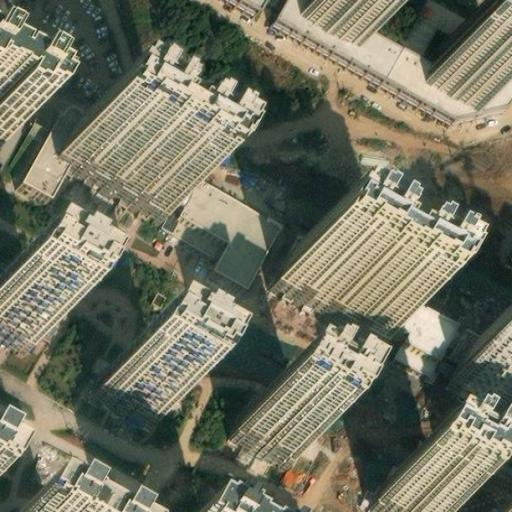building: (278, 0, 512, 113), (296, 230, 459, 370), (59, 116, 186, 209), (179, 172, 285, 283), (282, 241, 409, 329), (23, 92, 96, 188), (428, 27, 510, 102), (235, 399, 315, 467), (97, 359, 176, 427), (375, 469, 458, 512), (444, 317, 512, 365), (168, 206, 230, 254), (305, 0, 379, 40), (0, 287, 51, 344)
